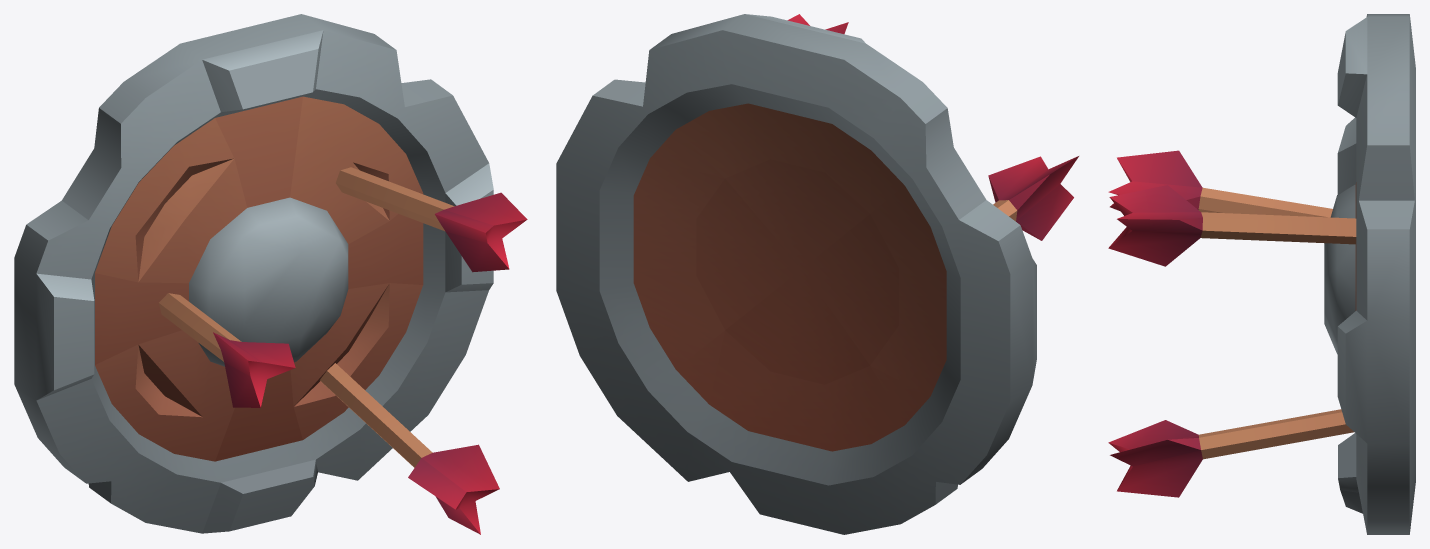
Rendered from Skeleton_Shield_Small_B.glb.
The picture shows the model from 3 angles, left to right: view 1: azimuth 30°, elevation 25°; view 2: azimuth 150°, elevation 25°; view 3: azimuth 270°, elevation 25°; orthographic projection. The views are drawn at different scales.
Bounding box in the file's own units: 0.8322 × 0.8322 × 0.5058.
Materials: 1 (1 with a texture image).
